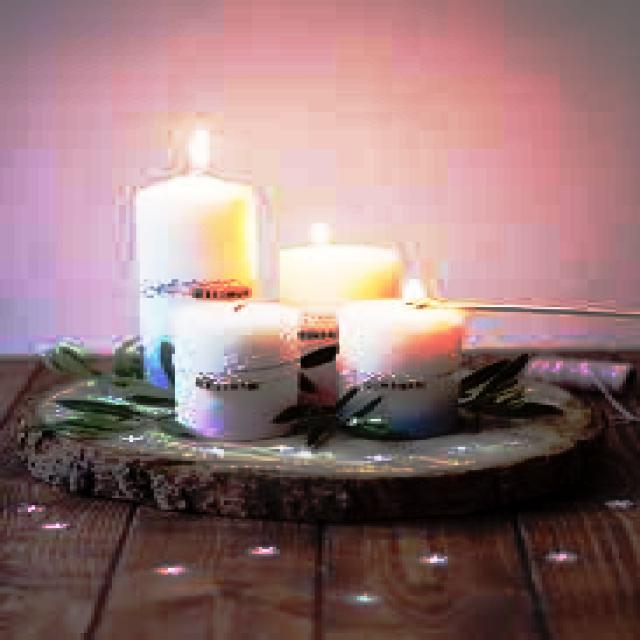api: (179, 125, 211, 176), (389, 273, 431, 306), (302, 220, 333, 250)
